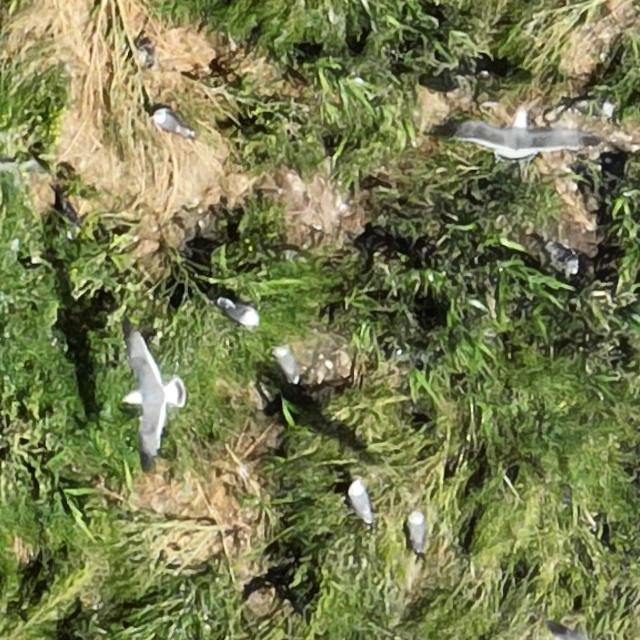F: (128, 337, 184, 459), (470, 110, 582, 164)
umineko: (541, 239, 579, 272), (350, 483, 374, 522), (153, 111, 186, 136), (274, 349, 298, 382), (222, 301, 256, 324), (408, 512, 425, 550)
